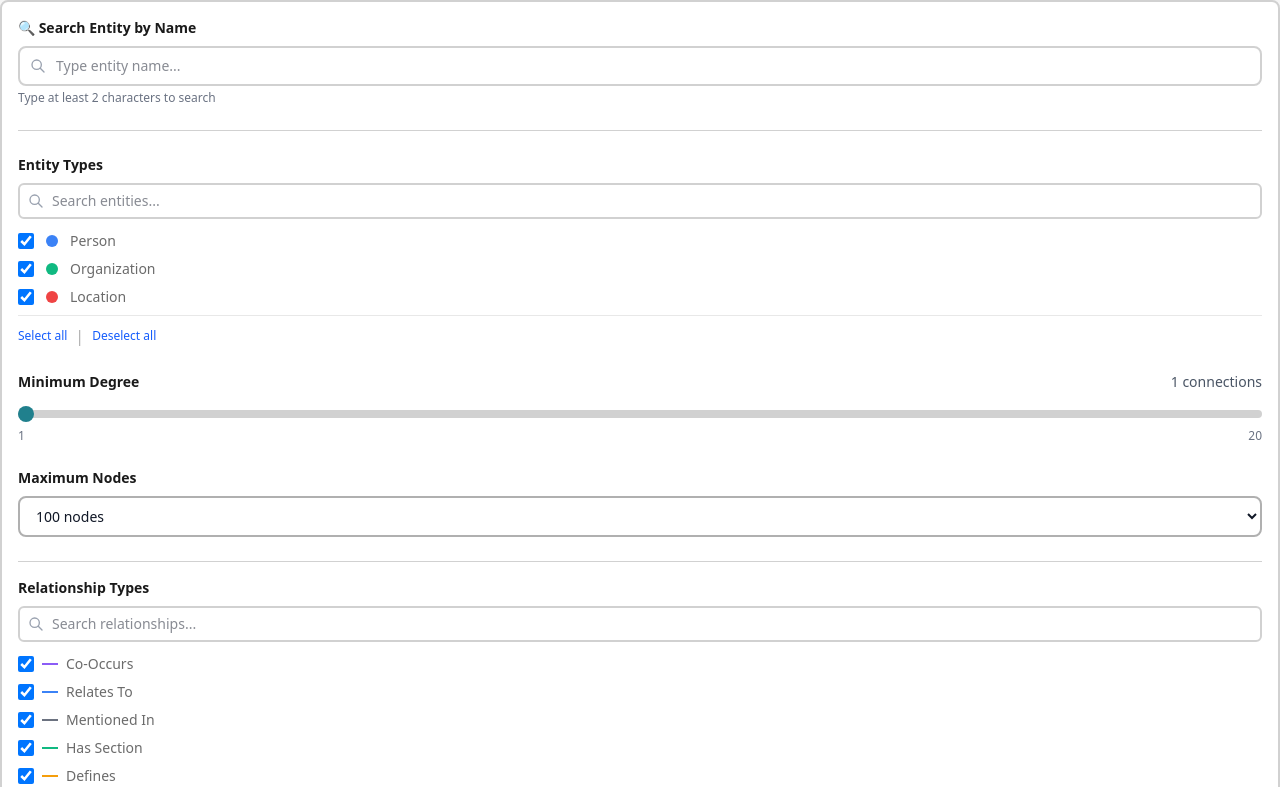
GraphFilters - Edge Type Filtering › filters relationship types by search input
Type "Co-Occurs" into the field with test id "relationship-search-input" at (640, 624), box [18, 606, 1262, 642]
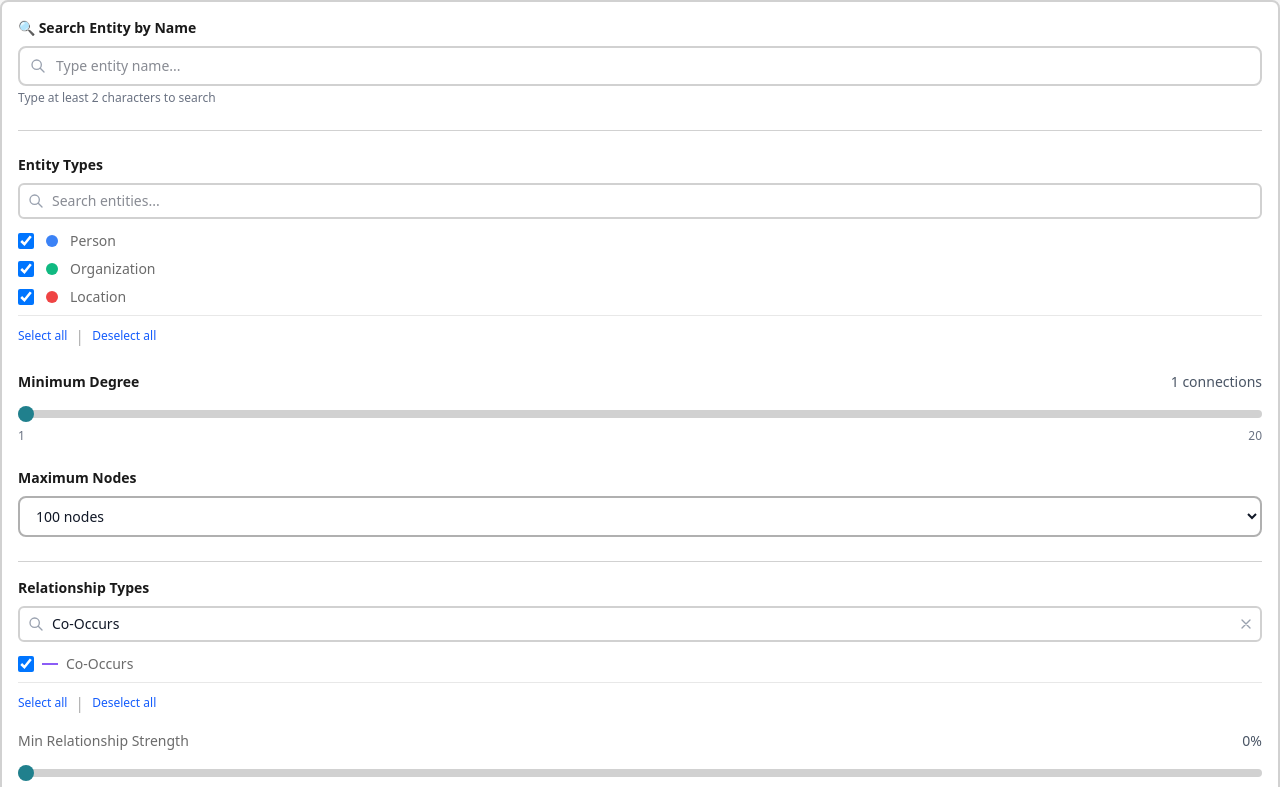
expect the text "Co-Occurs" is shown: met, box [66, 654, 133, 674]
expect the text "Relates To" is gone: met
